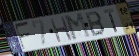7: (30, 18, 48, 48)
B: (85, 11, 107, 38)
F: (14, 21, 32, 51)
H: (49, 15, 74, 44)
M: (63, 12, 93, 42)
T: (102, 8, 119, 33)
